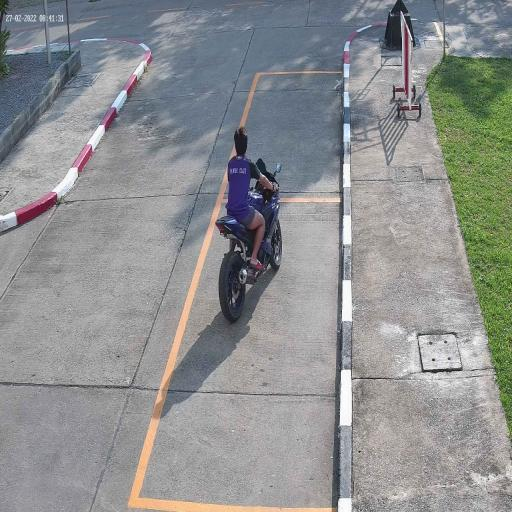motorcycle: (214, 194, 284, 326)
